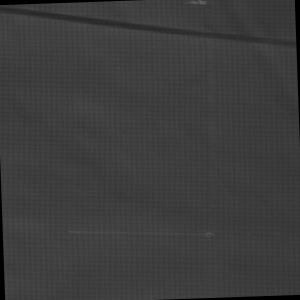Wrinkle: (1, 1, 298, 70)
